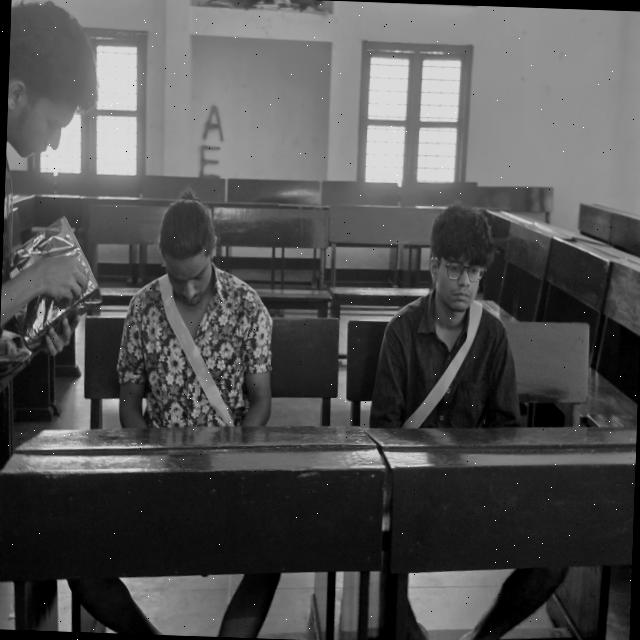seatbelt: (125, 289, 258, 424), (401, 314, 505, 428)
